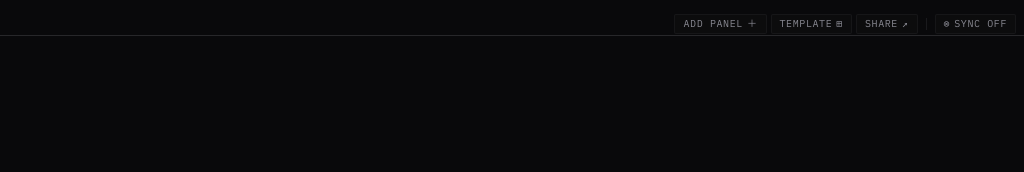
Scenario: WorkspaceUtilityRow › CrosshairSyncToggle › shows 'Sync on' label when enabled
The width and height of the screenshot is (1024, 172).
Click the button with test id "crosshair-sync-toggle".
click(975, 24)  # box [935,14,1016,34]
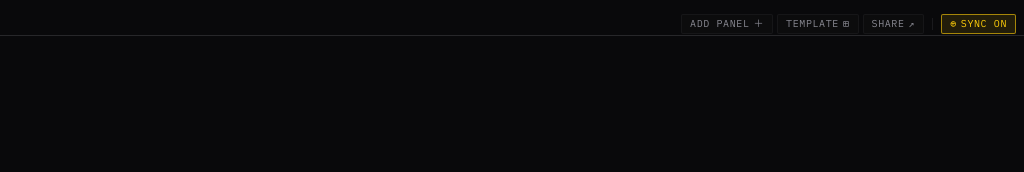
Expected: the button with test id "crosshair-sync-toggle" shows "Sync on", [941,14,1016,34]
